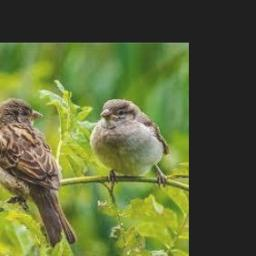Sparrow: (0, 98, 77, 247), (90, 99, 171, 188)
